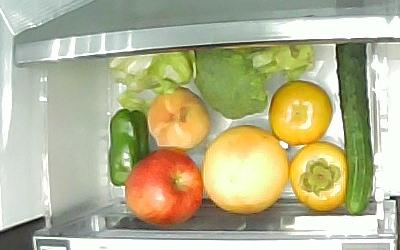apple: (124, 149, 202, 224)
broccoli: (193, 41, 316, 119)
cucumber: (335, 42, 374, 217)
grapefruit: (200, 125, 287, 214)
lettuce: (106, 49, 194, 108)
paprika: (107, 109, 148, 186)
peach: (147, 87, 210, 147)
persimmon: (267, 81, 333, 145), (290, 141, 347, 212)
